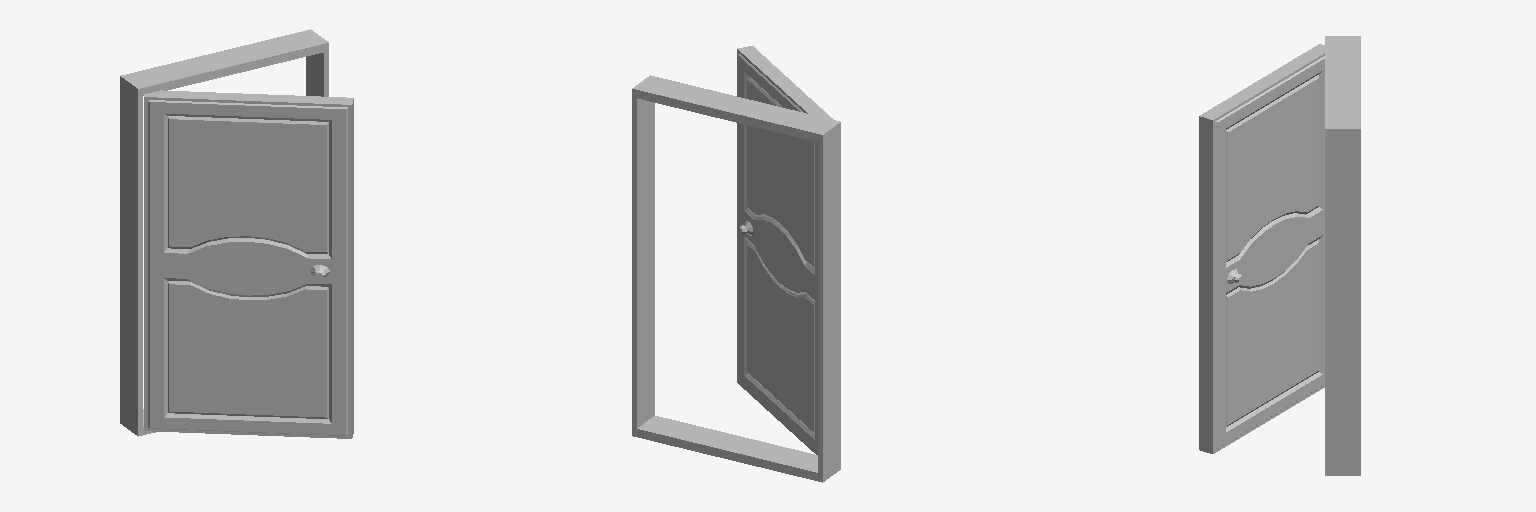
The model's file is drzwiok_000024.obj.
The picture shows the model from 3 angles: view 1: azimuth 30°, elevation 25°; view 2: azimuth 150°, elevation 25°; view 3: azimuth 270°, elevation 25°; orthographic projection.
Visible parts, largest first — view 1: Door_4.001_Cube.001, Kostka; view 2: Door_4.001_Cube.001, Kostka; view 3: Door_4.001_Cube.001, Kostka.
Part boxes in pixels (x1,y1,x2,y2): Door_4.001_Cube.001: (144,90,353,438); Kostka: (120,29,328,436); Door_4.001_Cube.001: (737,46,833,454); Kostka: (632,75,840,482); Door_4.001_Cube.001: (1199,44,1324,453); Kostka: (1325,36,1360,475).
Bounding box in the file's own units: 0.7416 × 1.29 × 0.5452.